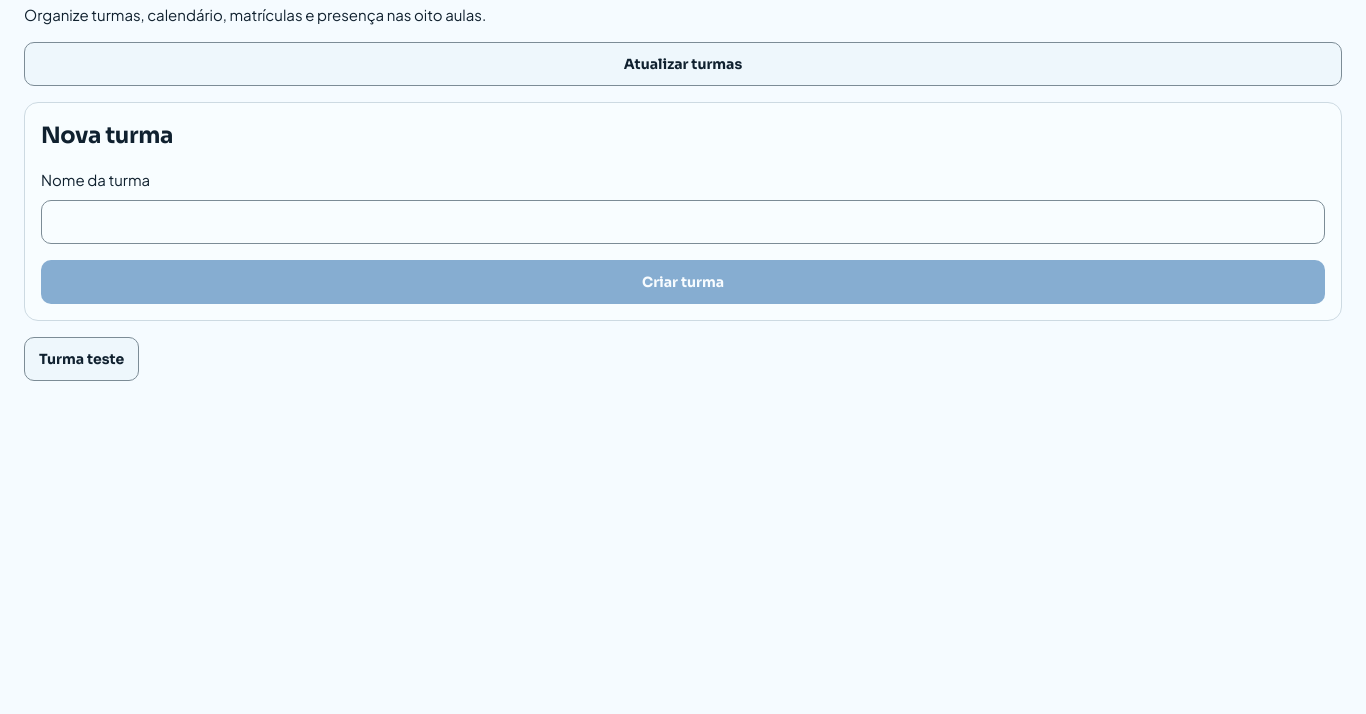
Test: consulta turma e expõe nove datas, pendência e matrícula explícita
The width and height of the screenshot is (1366, 714).
Click the button "Turma teste" at (82,358), box 24,336 -> 139,380
(page scrolled)
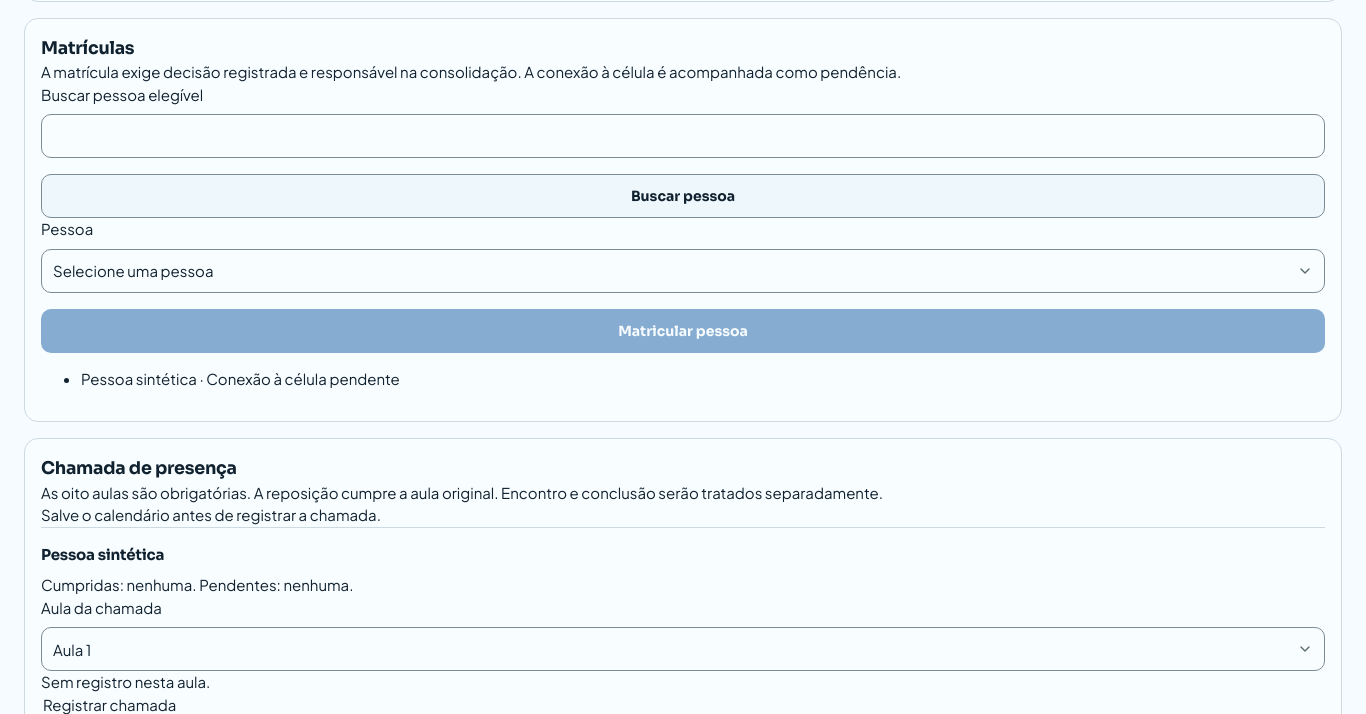
Now the text "Conexão à célula pendente" is shown, box 197,369 -> 400,388
Now the button "Matricular pessoa" is disabled, box 41,309 -> 1325,353
